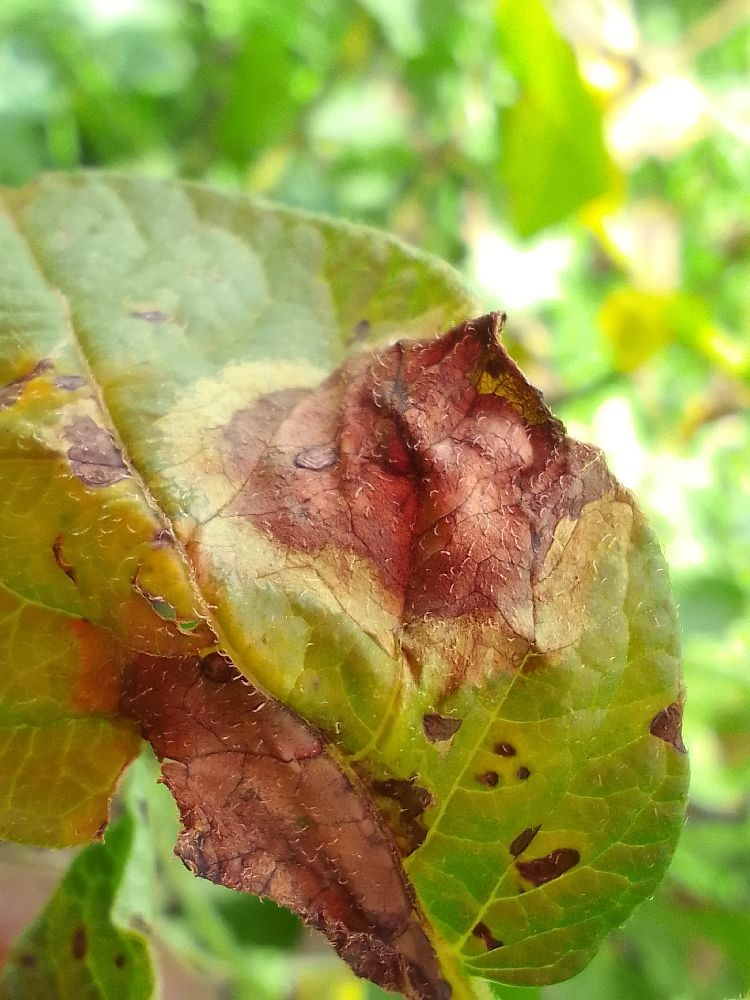late_blight: (0, 238, 702, 999)
